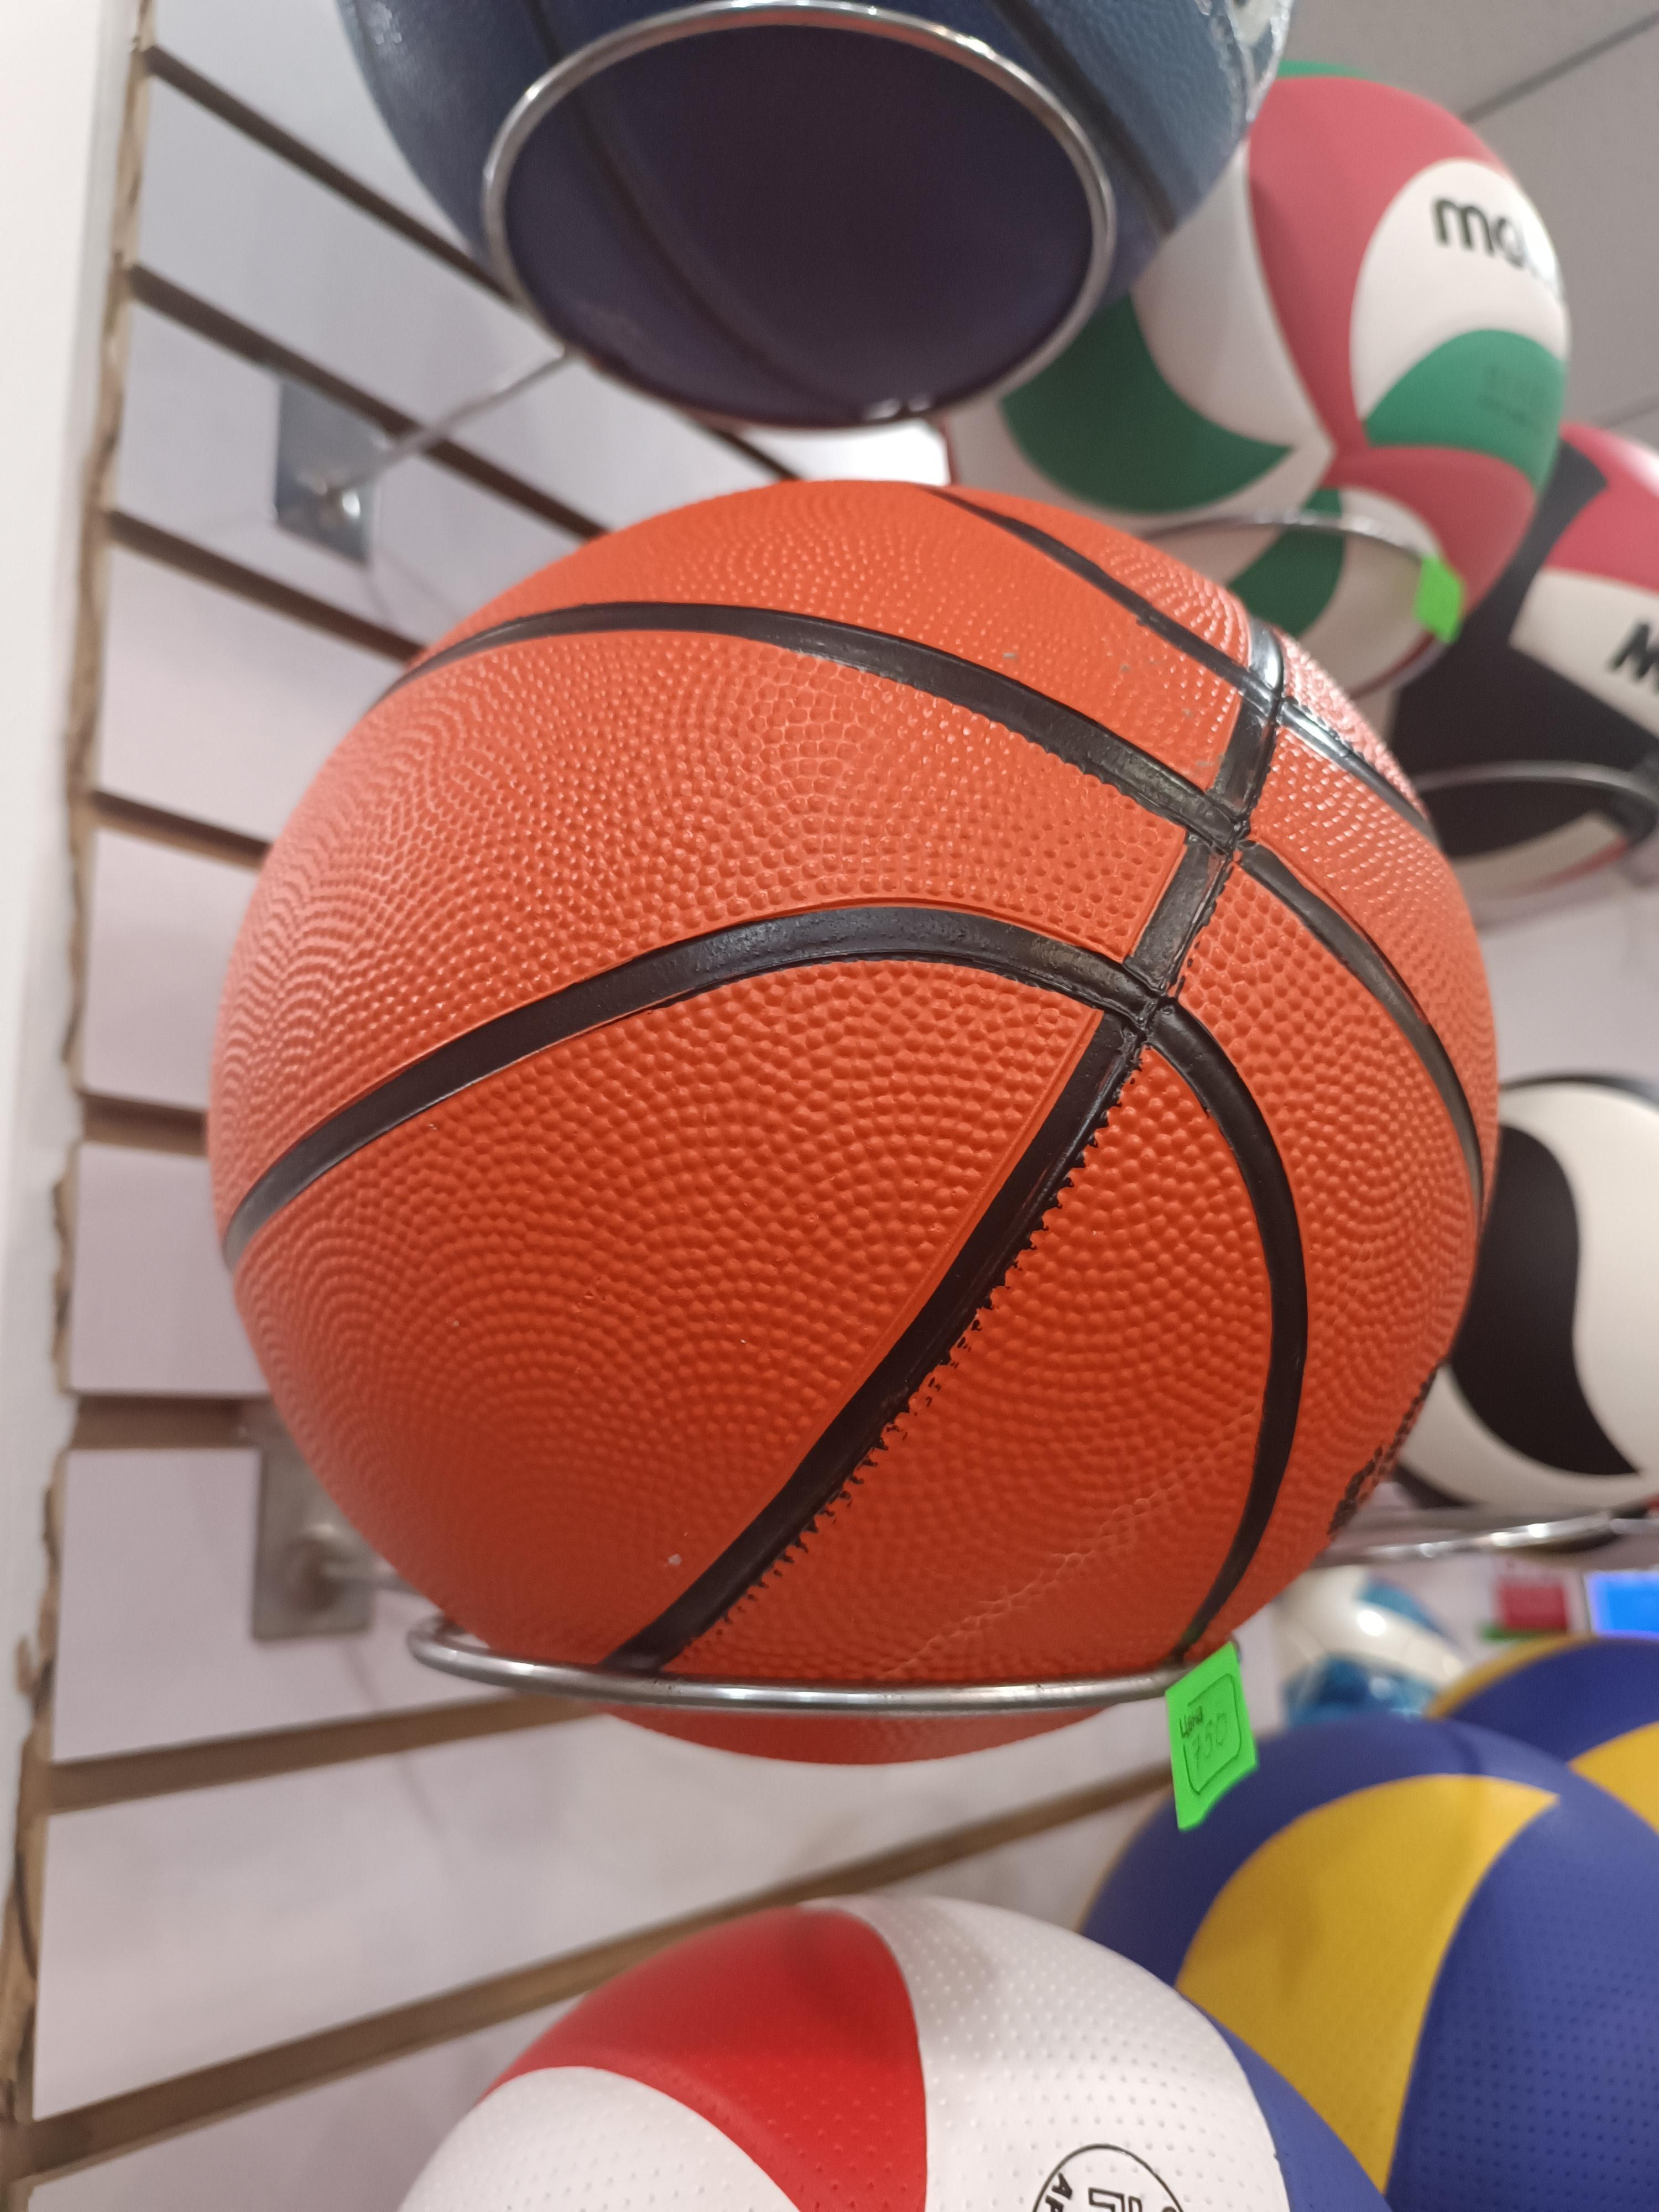Sports-Ball: (207, 479, 1495, 1763)
